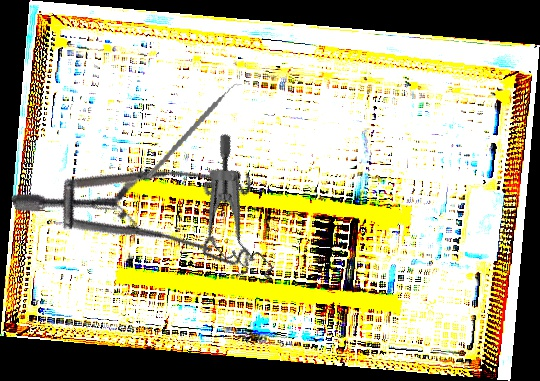Chopper: (146, 69, 246, 194)
Speculum: (9, 107, 282, 341), (160, 131, 316, 296)
